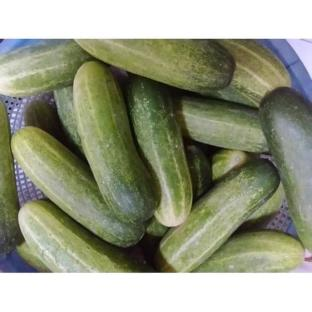Cucumber: (12, 127, 145, 246), (156, 160, 279, 271), (74, 62, 156, 223), (128, 76, 192, 226), (19, 201, 146, 272), (76, 39, 234, 92), (260, 87, 311, 250), (206, 39, 290, 106), (0, 40, 93, 96), (175, 97, 267, 152), (193, 230, 303, 272), (0, 102, 19, 256), (54, 86, 84, 157), (241, 182, 285, 229), (24, 100, 63, 142), (185, 145, 211, 200), (140, 217, 169, 266), (212, 149, 250, 183), (17, 241, 50, 272), (146, 217, 168, 237)
